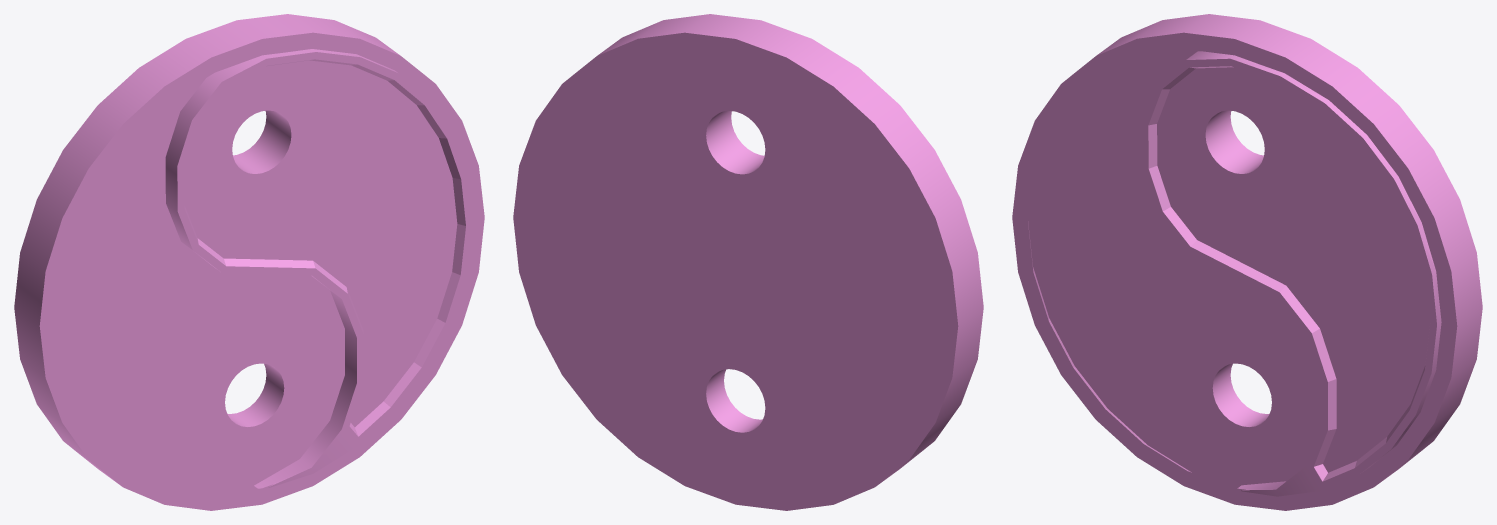
File: honor.glb
The picture shows the model from 3 angles, left to right: view 1: azimuth 30°, elevation 25°; view 2: azimuth 150°, elevation 25°; view 3: azimuth 330°, elevation 25°; orthographic projection.
Parts seen in each view (by area): view 1: Circle003; view 2: Circle003; view 3: Circle003.
Boxes of the visible parts, box(x1,y1,x2,y2) form: Circle003: box(14, 14, 484, 510); Circle003: box(513, 14, 983, 510); Circle003: box(1012, 14, 1482, 510).
Bounding box in the file's own units: 2.76 × 2.76 × 0.3183.
